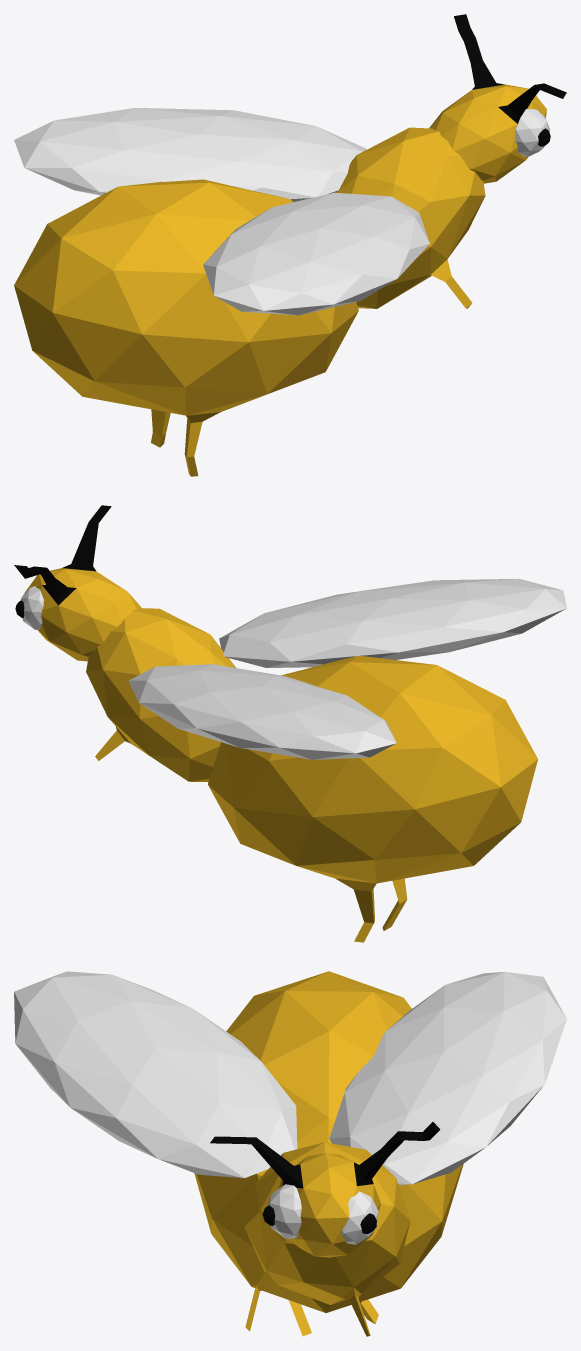
The model's file is VAGALUME.fbx.
The picture shows the model from 3 angles, top to bottom: view 1: azimuth 30°, elevation 25°; view 2: azimuth 150°, elevation 25°; view 3: azimuth 270°, elevation 25°; orthographic projection. The views are drawn at different scales.
Visible parts, largest first — view 1: Icosphere.001, Icosphere; view 2: Icosphere.001, Icosphere; view 3: Icosphere, Icosphere.001.
Part boxes in pixels (x1,y1,x2,y2): Icosphere.001: [14, 14, 566, 476]; Icosphere: [14, 108, 429, 315]; Icosphere.001: [14, 505, 537, 942]; Icosphere: [128, 578, 566, 759]; Icosphere: [14, 971, 566, 1185]; Icosphere.001: [194, 971, 463, 1336].
Bounding box in the file's own units: 309 × 198 × 255.
